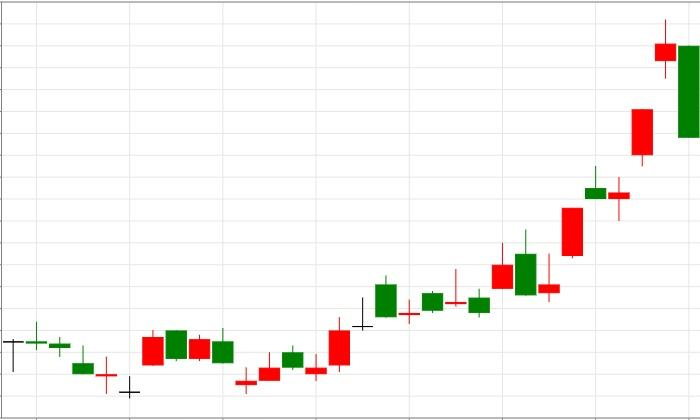bearish_engulfing_fall: (235, 230, 537, 394)
